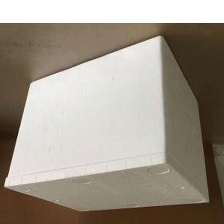foam_box: (0, 31, 213, 216)
